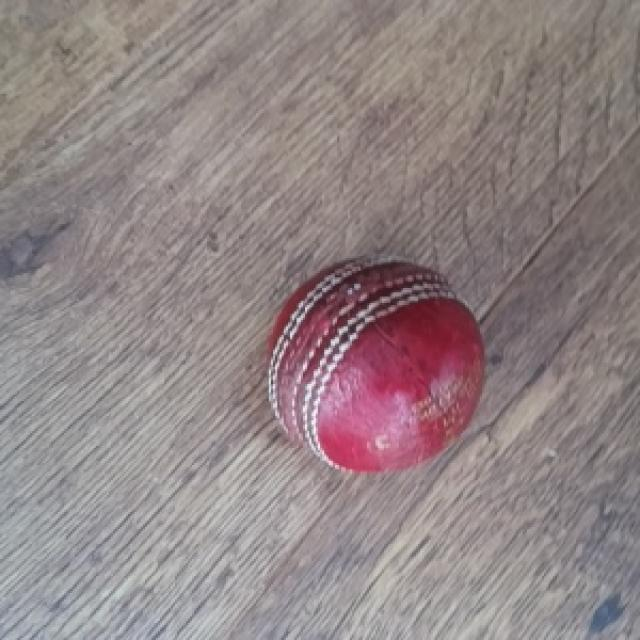ball: (265, 258, 486, 476)
